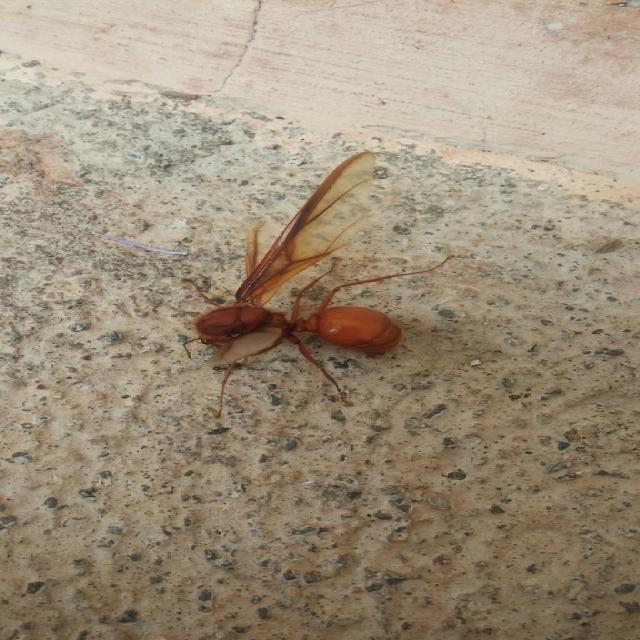Alive-Male-Alate: (181, 151, 454, 418)
